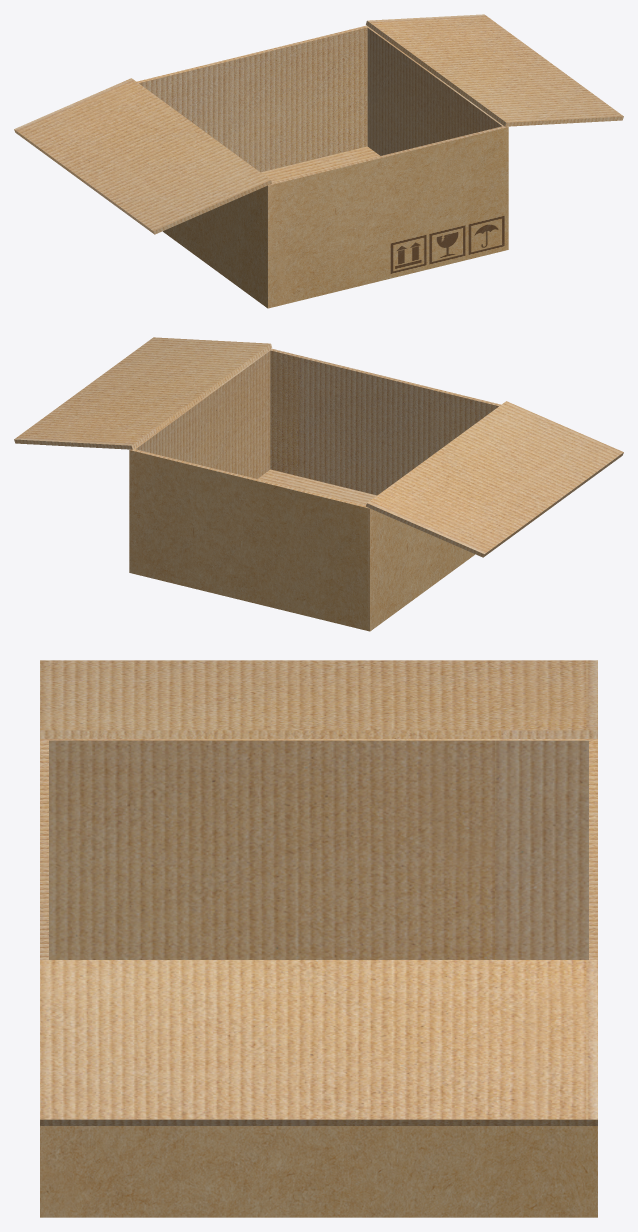
File: LargeBigBoxNew.fbx
3 views of the same model, one above another, from view 1: azimuth 30°, elevation 25°; view 2: azimuth 150°, elevation 25°; view 3: azimuth 270°, elevation 25° (orthographic). The views are drawn at different scales.
Parts seen in each view (by area): view 1: Large_Open_Box, Large_Open_Box.002, Large_Open_Box.001; view 2: Large_Open_Box, Large_Open_Box.002, Large_Open_Box.001; view 3: Large_Open_Box, Large_Open_Box.001, Large_Open_Box.002.
Part boxes in pixels (box(x1,y1,x2,y2)): Large_Open_Box: box(137, 25, 508, 308); Large_Open_Box.002: box(14, 78, 271, 234); Large_Open_Box.001: box(366, 14, 623, 126); Large_Open_Box: box(129, 348, 500, 631); Large_Open_Box.002: box(366, 401, 623, 557); Large_Open_Box.001: box(14, 337, 271, 449); Large_Open_Box: box(40, 739, 597, 1217); Large_Open_Box.001: box(40, 960, 597, 1125); Large_Open_Box.002: box(40, 660, 597, 738).
Size of the model in its own units: 3.7 by 0.9595 by 1.9.
